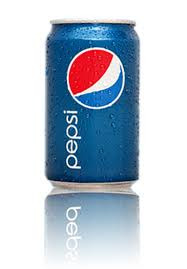pepsi: (47, 19, 139, 188)
